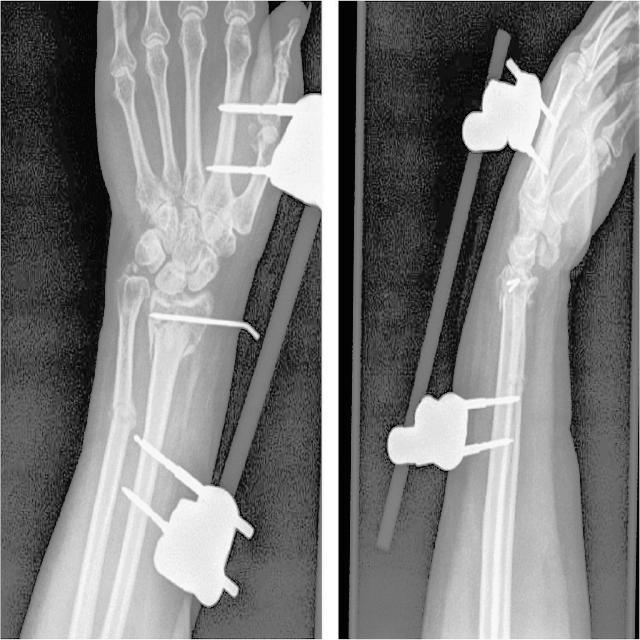Intra-articular fracture: (155, 289, 211, 352), (492, 268, 538, 307), (102, 392, 142, 434), (497, 364, 528, 402)
